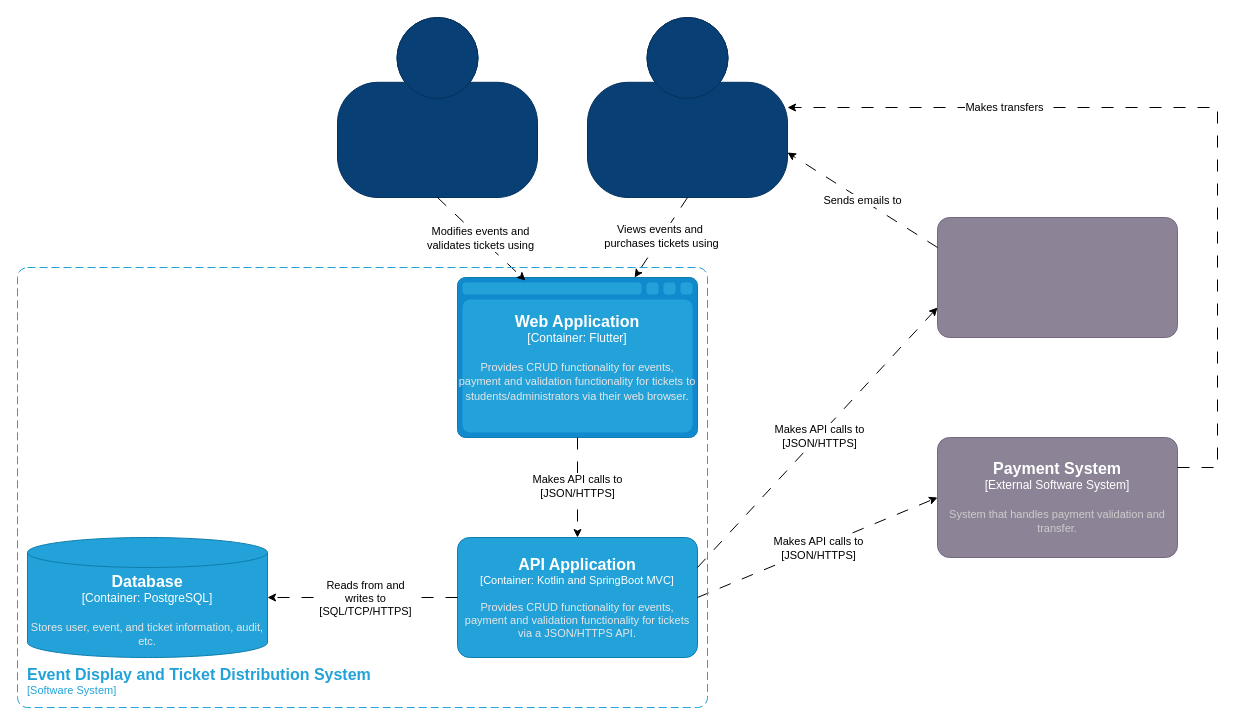
This 1243x725 diagram has some shape labels left out. Each missing label, with the centre of its shape:
Admininistrator [Person] A staff member of our organisation.: the point at 437,107
Email System [External Software System] System that provides email distribution.: the point at 1057,277
Student [Person] A customer.: the point at 687,107
